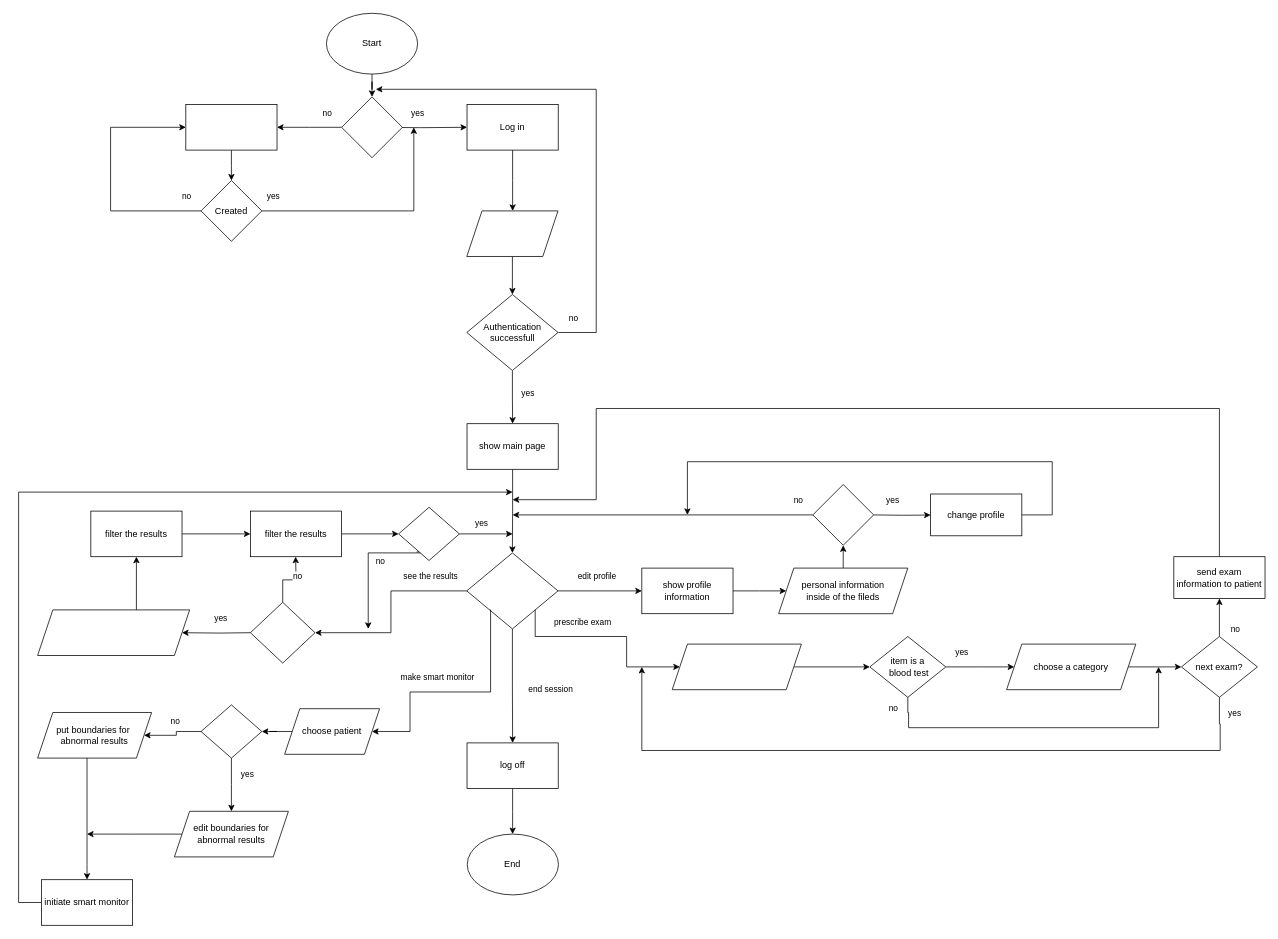
Some shapes in this 1278 by 939 pixel diagram are drawn without their labels. Each missing label, with the centre of its shape:
"choose the item of exam" goes at [736,666].
"choose what to do" goes at [512,590].
"email & password" goes at [512,233].
"exit" goes at [428,533].
"have an account" goes at [371,127].
"monitor exist" goes at [231,731].
"patients name &(date &/ exam item &/ abnormal result)" goes at [113,632].
"save" goes at [843,514].
"search" goes at [282,632].
"Wait for administrator to create account" goes at [231,127].
